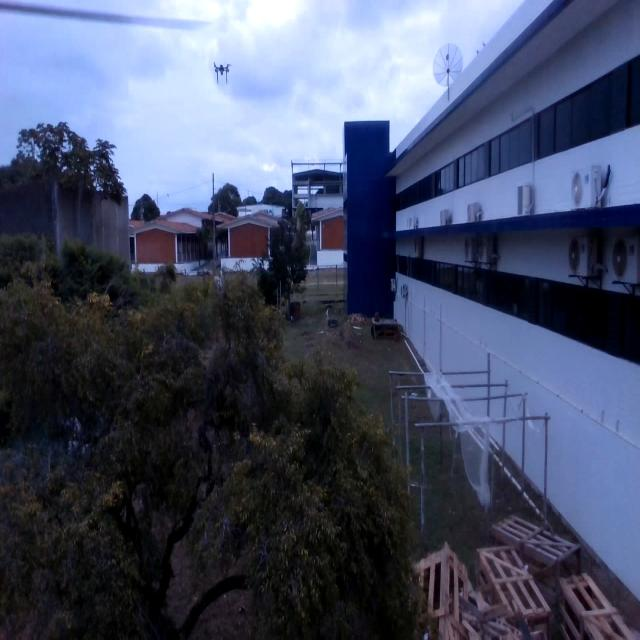-uav-: (208, 52, 236, 98)
